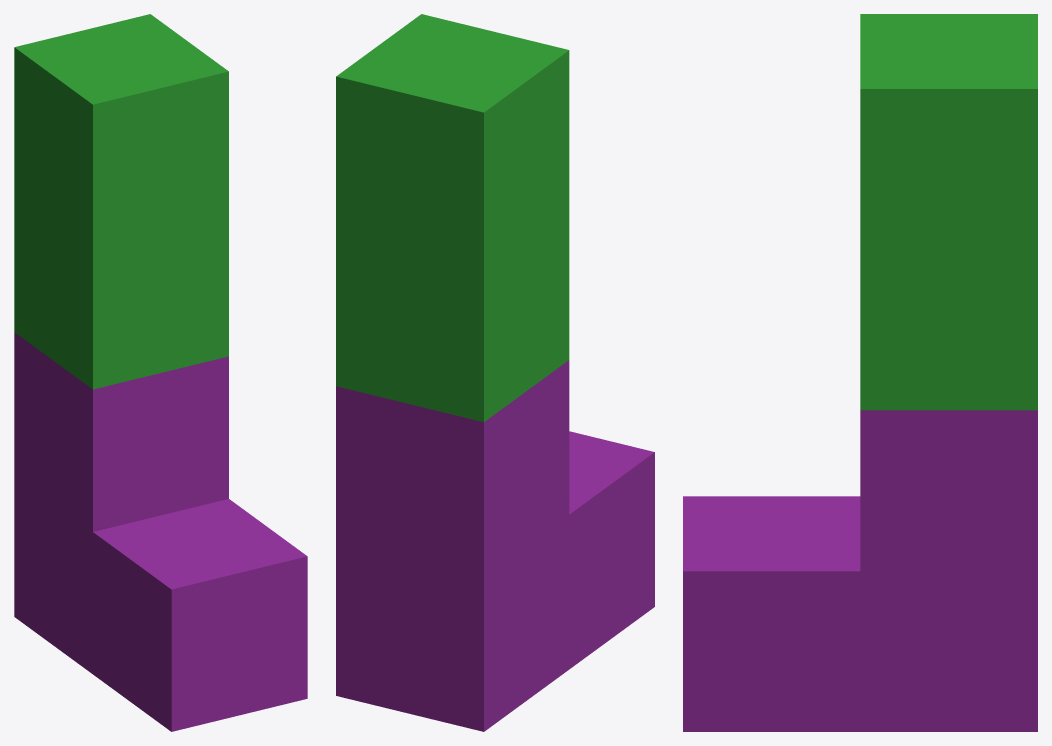
The model's file is Small_GreenGuy-3.obj.
The picture shows the model from 3 angles, left to right: view 1: azimuth 30°, elevation 25°; view 2: azimuth 150°, elevation 25°; view 3: azimuth 270°, elevation 25°; orthographic projection. The views are drawn at different scales.
Bounding box in the file's own units: 0.1 × 0.4 × 0.2.
1 material, 1 textured.
